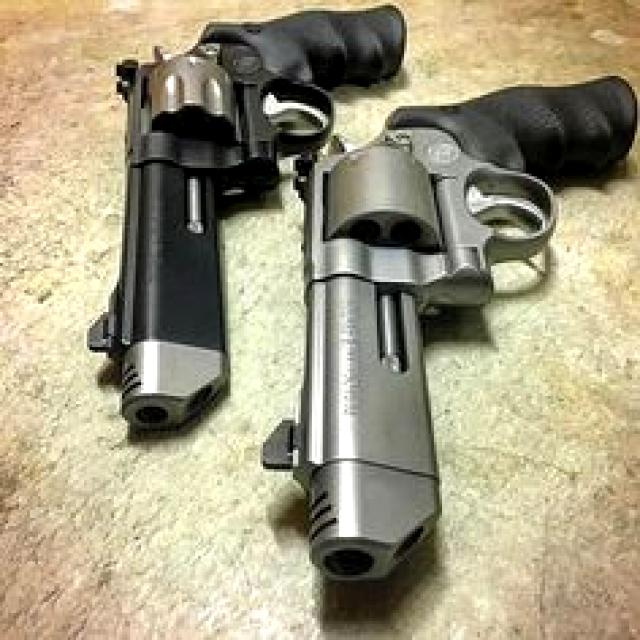revolver: (74, 6, 640, 605)
